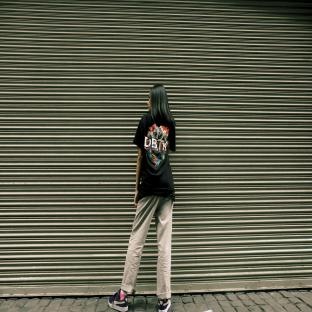Human: (109, 84, 176, 312)
